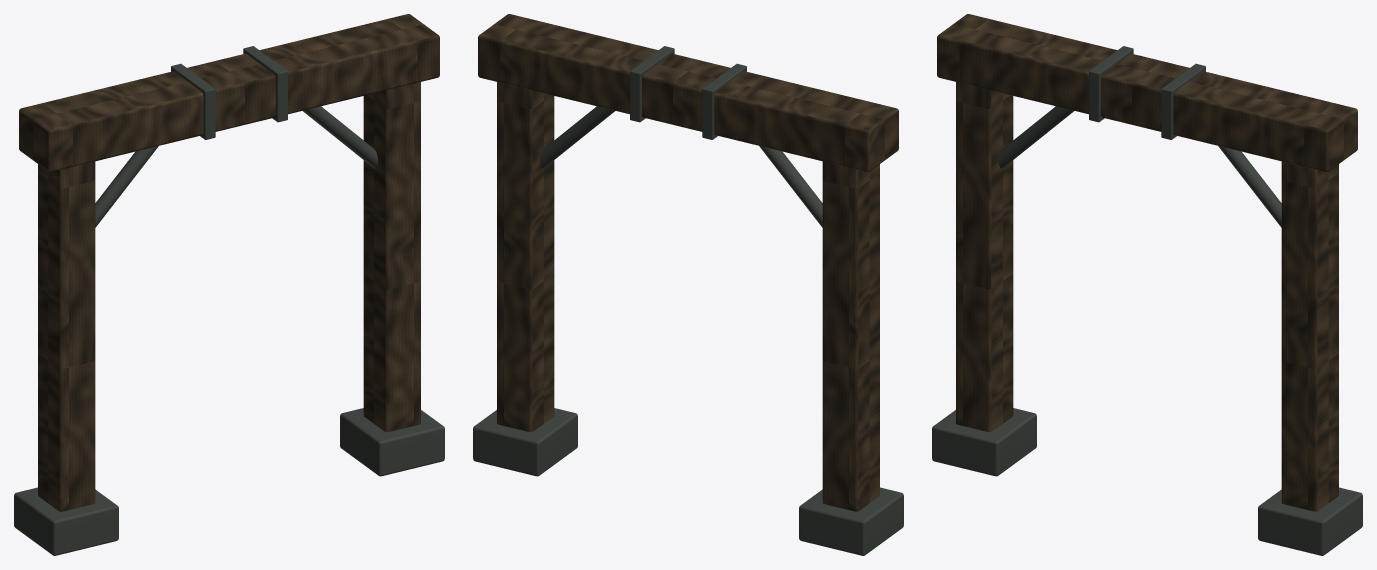
Rendered from C13_bell_frame.gltf.
The picture shows the model from 3 angles, left to right: view 1: azimuth 30°, elevation 25°; view 2: azimuth 150°, elevation 25°; view 3: azimuth 330°, elevation 25°; orthographic projection.
Parts seen in each view (by area): view 1: Bell bearing crossbeam, Bell tower oak upright, Bell tower oak upright.001, Oak end plate, Oak end plate.001, Diagonal iron brace, Diagonal iron brace.001, Bell bearing band, Bell bearing band.001; view 2: Bell bearing crossbeam, Bell tower oak upright, Bell tower oak upright.001, Oak end plate, Oak end plate.001, Diagonal iron brace, Diagonal iron brace.001, Bell bearing band, Bell bearing band.001; view 3: Bell bearing crossbeam, Bell tower oak upright.001, Bell tower oak upright, Oak end plate.001, Oak end plate, Diagonal iron brace.001, Diagonal iron brace, Bell bearing band.001, Bell bearing band.
Part boxes in pixels (x1,y1,x2,y2): Bell bearing crossbeam: (19, 14, 439, 171); Bell tower oak upright: (38, 161, 95, 511); Bell tower oak upright.001: (363, 82, 420, 432); Oak end plate: (14, 487, 118, 555); Oak end plate.001: (340, 408, 444, 476); Diagonal iron brace: (95, 146, 158, 227); Diagonal iron brace.001: (302, 106, 377, 168); Bell bearing band: (171, 63, 215, 139); Bell bearing band.001: (243, 46, 287, 122); Bell bearing crossbeam: (478, 14, 898, 171); Bell tower oak upright: (822, 161, 879, 511); Bell tower oak upright.001: (497, 82, 554, 432); Oak end plate: (799, 487, 903, 555); Oak end plate.001: (473, 408, 577, 476); Diagonal iron brace: (759, 146, 822, 227); Diagonal iron brace.001: (540, 106, 615, 168); Bell bearing band: (702, 63, 746, 139); Bell bearing band.001: (630, 46, 674, 122); Bell bearing crossbeam: (937, 14, 1357, 171); Bell tower oak upright.001: (1281, 161, 1338, 511); Bell tower oak upright: (956, 82, 1013, 432); Oak end plate.001: (1258, 487, 1362, 555); Oak end plate: (932, 408, 1036, 476); Diagonal iron brace.001: (1218, 146, 1281, 227); Diagonal iron brace: (999, 106, 1074, 168); Bell bearing band.001: (1161, 63, 1205, 139); Bell bearing band: (1089, 46, 1133, 122).
Size of the model in its own units: 3.25 by 3.39 by 0.58.
Materials: 2 (1 with a texture image).
